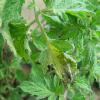Tomato leaf bacterial spot: (38, 35, 83, 84), (1, 16, 34, 68), (17, 71, 67, 100)
